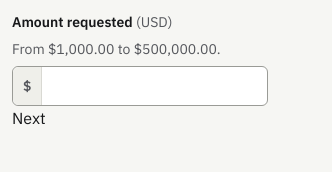
Scenario: NumberInput › keeps the typed text while editing and formats on blur
The image size is (332, 172).
Type "1250.5" into the field labelled "Amount requested (USD)" at (155, 86), box 42,67 -> 267,105
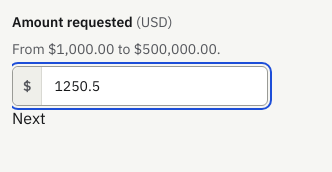
Press Tab
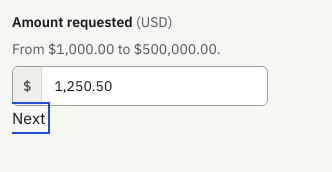
Check: the element showing "Amount requested (USD) From $1,000.00 to $500,000.00. $" holds "1250.5", box 12,13 -> 268,106
Check: the field labelled "Amount requested (USD)" holds "1,250.50", box 42,67 -> 267,105
